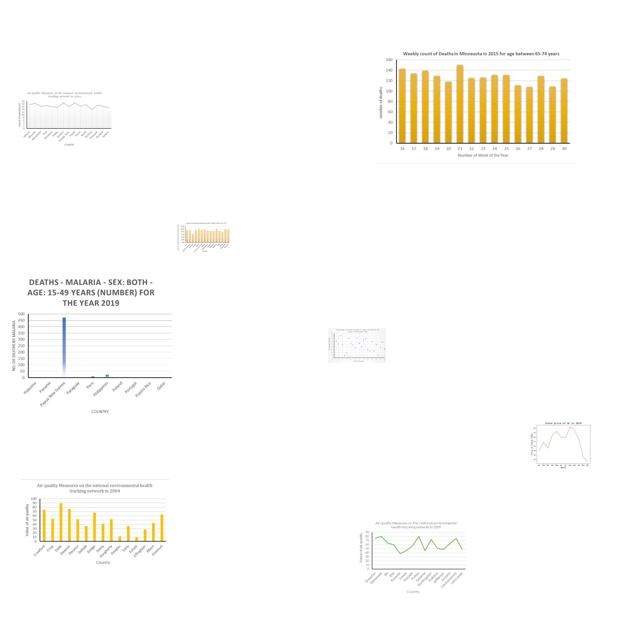Graph: (7, 274, 176, 416), (374, 45, 575, 164), (21, 479, 169, 566), (358, 520, 467, 595), (16, 90, 114, 148), (528, 418, 597, 470), (328, 328, 386, 363), (176, 222, 231, 253)
